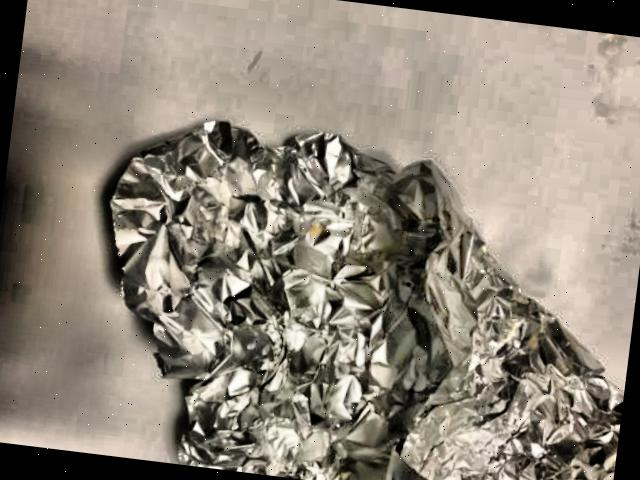Almennt: (64, 103, 640, 480)
